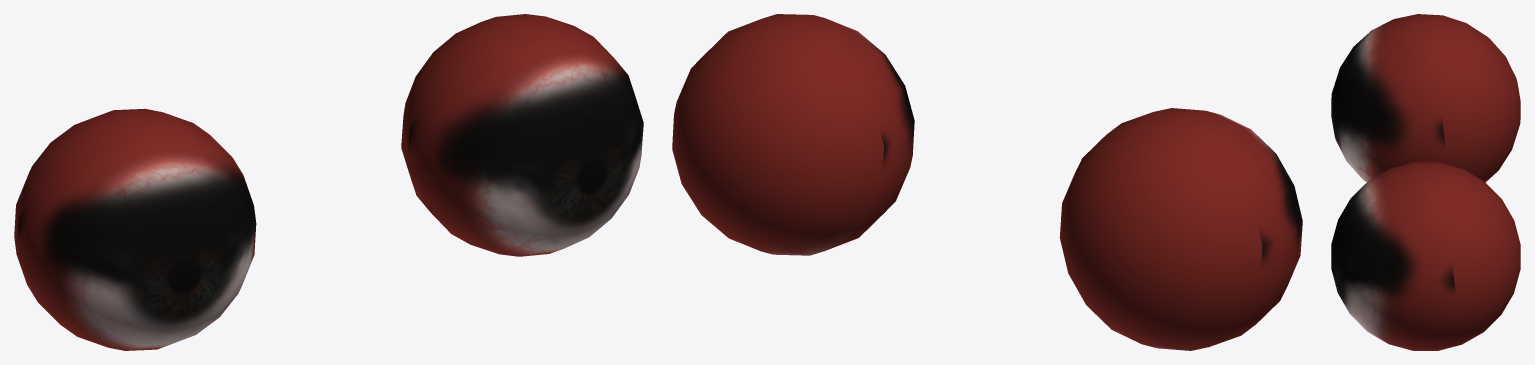
File: posidon_eyes.fbx
3 views of the same model, side by side, from view 1: azimuth 30°, elevation 25°; view 2: azimuth 150°, elevation 25°; view 3: azimuth 270°, elevation 25° (orthographic). The views are drawn at different scales.
Parts seen in each view (by area): view 1: Sphere; view 2: Sphere; view 3: Sphere.
Part boxes in pixels (<box>): Sphere: <box>14,14,643,350</box>; Sphere: <box>672,14,1302,350</box>; Sphere: <box>1331,14,1520,350</box>.
Bounding box in the file's own units: 9.11 × 3.21 × 3.21.
